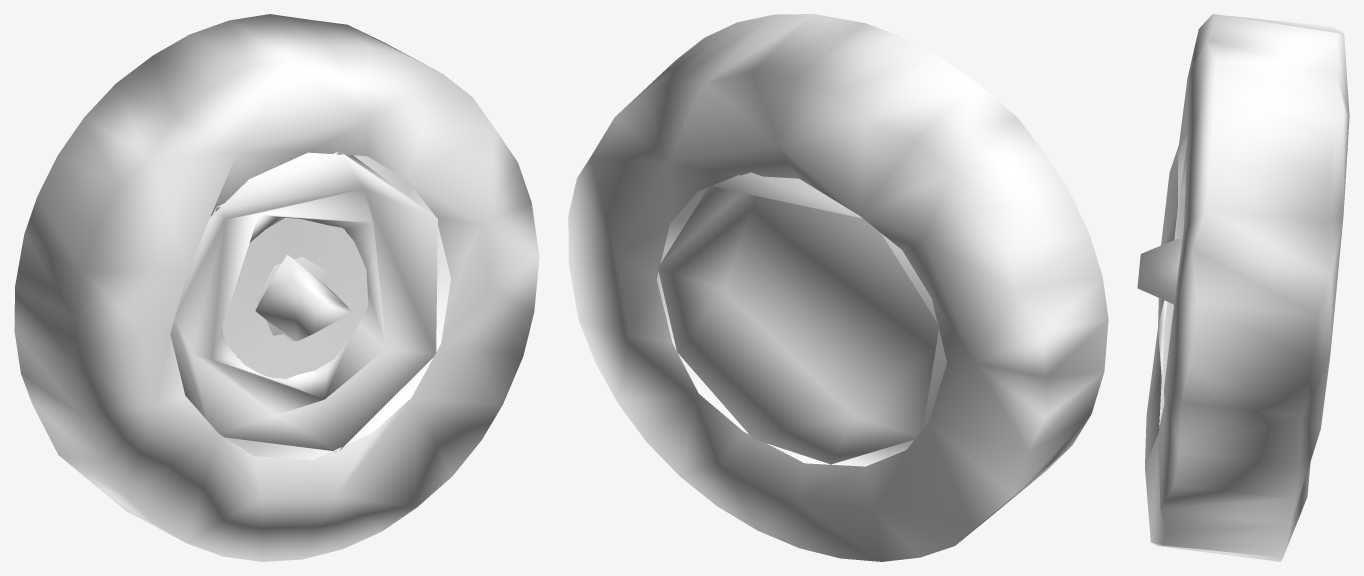
3 renders of one model, left to right at view 1: azimuth 30°, elevation 25°; view 2: azimuth 150°, elevation 25°; view 3: azimuth 270°, elevation 25°, orthographic. The views are drawn at different scales.
Size of the model in its own units: 0.7367 by 0.7431 by 0.2893.
Materials: 1 (1 with a texture image).
